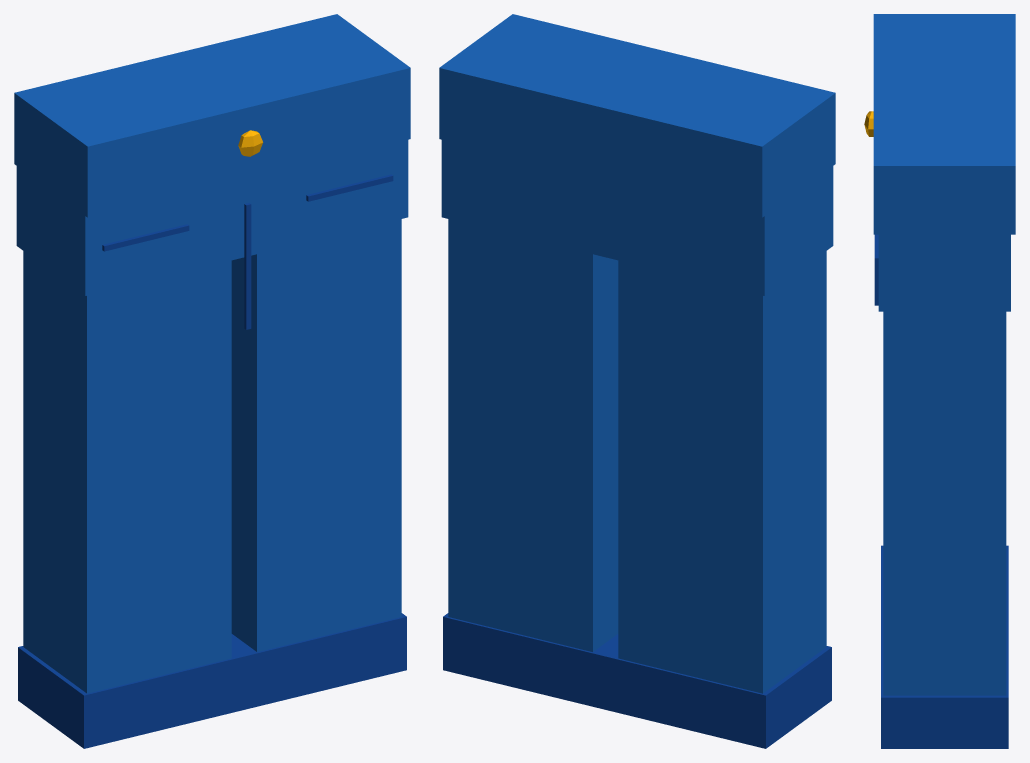
The model's file is byxor.glb.
3 renders of one model, left to right at view 1: azimuth 30°, elevation 25°; view 2: azimuth 150°, elevation 25°; view 3: azimuth 270°, elevation 25°, orthographic. The views are drawn at different scales.
Visible parts, largest first — view 1: byxor; view 2: byxor; view 3: byxor.
Boxes of the visible parts, box(x1,y1,x2,y2) form: byxor: box(14, 14, 410, 748); byxor: box(439, 14, 835, 748); byxor: box(864, 14, 1015, 748).
Size of the model in its own units: 0.38 by 0.68 by 0.16.
